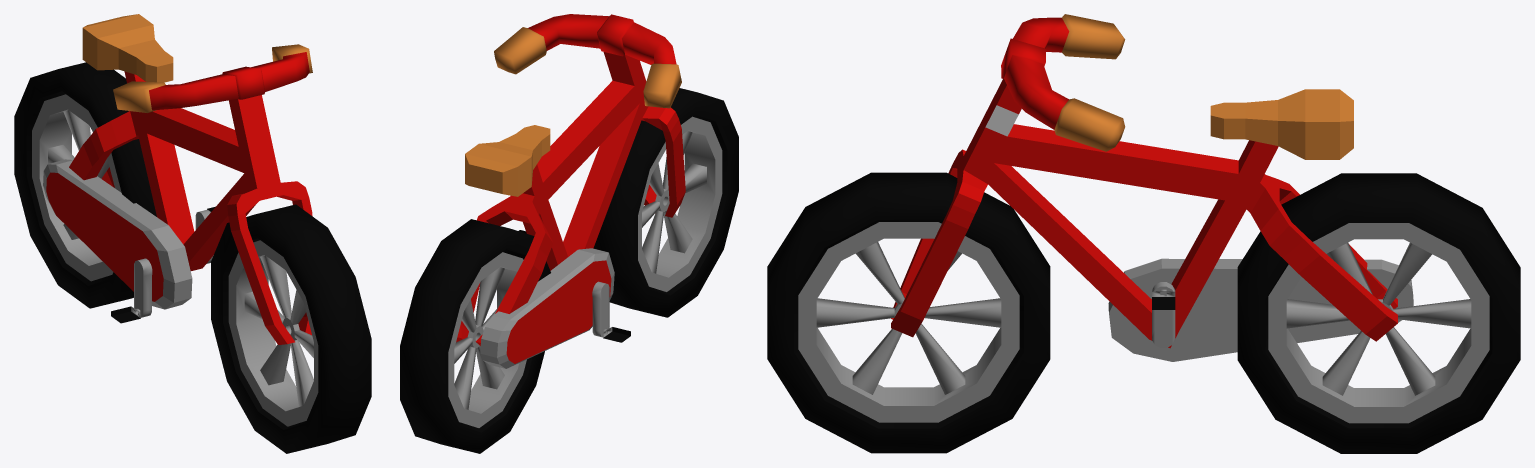
Rendered from Bike_NoHandles.fbx.
The picture shows the model from 3 angles, left to right: view 1: azimuth 30°, elevation 25°; view 2: azimuth 150°, elevation 25°; view 3: azimuth 270°, elevation 25°; orthographic projection. The views are drawn at different scales.
Visible parts, largest first — view 1: Frame, Wheel front, Wheel back, Stuur, Pedals; view 2: Frame, Wheel back, Wheel front, Stuur, Pedals; view 3: Frame, Wheel front, Wheel back, Stuur, Pedals.
Boxes of the visible parts, x1=… form: Frame: x1=43, y1=14, x2=312, y2=344; Wheel front: x1=211, y1=204, x2=371, y2=453; Wheel back: x1=14, y1=62, x2=156, y2=308; Stuur: x1=113, y1=44, x2=312, y2=112; Pedals: x1=111, y1=206, x2=215, y2=323; Frame: x1=456, y1=52, x2=685, y2=368; Wheel back: x1=400, y1=219, x2=550, y2=453; Wheel front: x1=593, y1=88, x2=738, y2=317; Stuur: x1=494, y1=14, x2=681, y2=108; Pedals: x1=519, y1=230, x2=630, y2=342; Frame: x1=891, y1=79, x2=1413, y2=361; Wheel front: x1=767, y1=172, x2=1050, y2=453; Wheel back: x1=1237, y1=173, x2=1520, y2=453; Stuur: x1=1001, y1=14, x2=1125, y2=151; Pedals: x1=1152, y1=282, x2=1175, y2=347.
Bounding box in the file's own units: 82.52 × 142 × 244.
